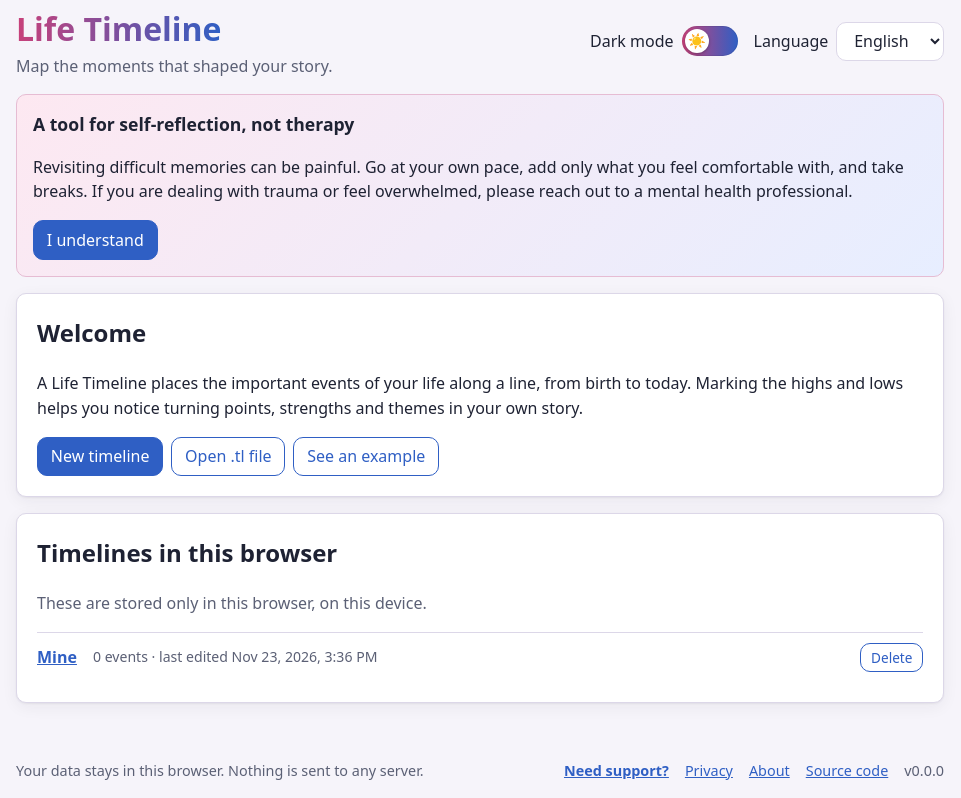
it: example timeline › steps aside for returning users but stays reachable
Expected: the button "Mine" is shown, [37, 645, 77, 670]
Step 1. Click the button "See an example" → (366, 456), box [293, 436, 439, 476]
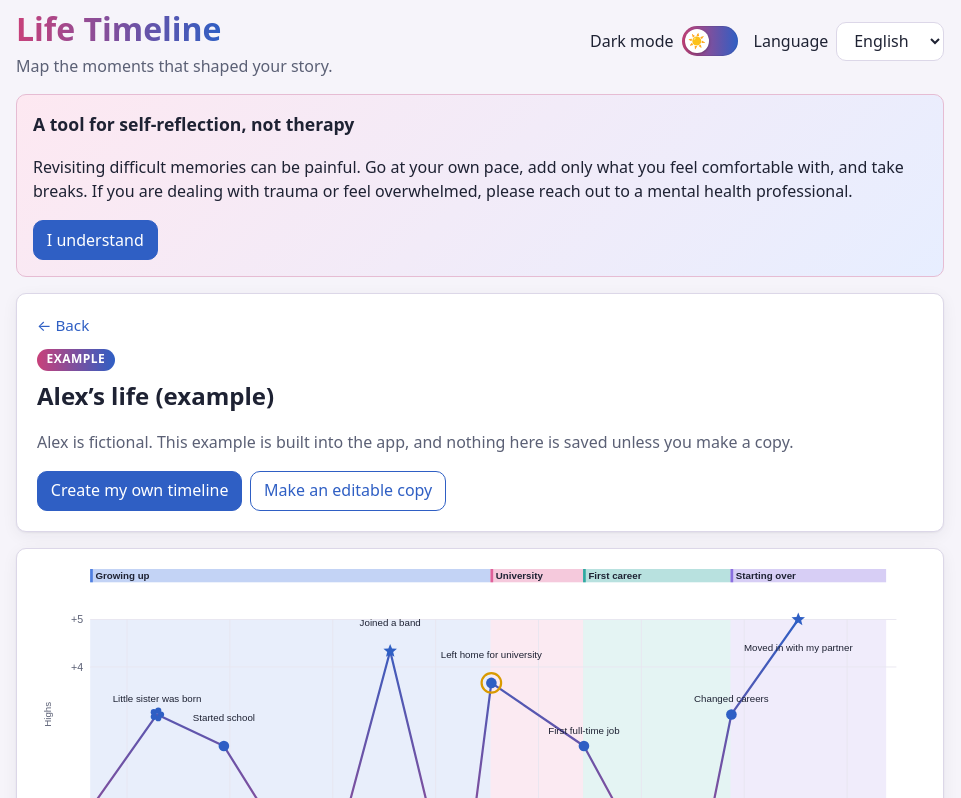
Result: the heading "Alex’s life (example)" is shown at [37, 379, 274, 412]
